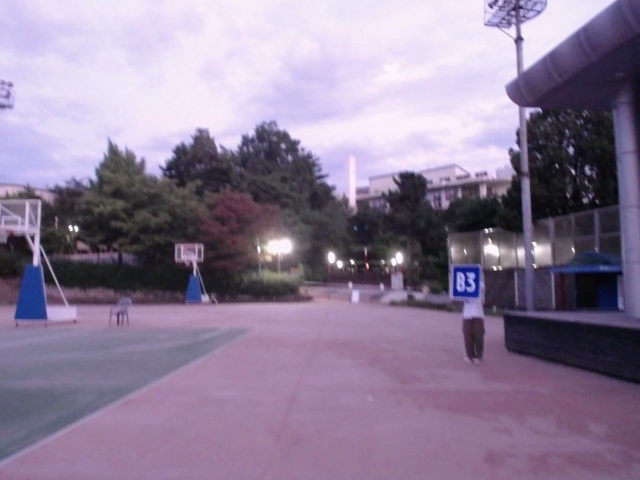delivery_b3: (450, 263, 481, 300)
